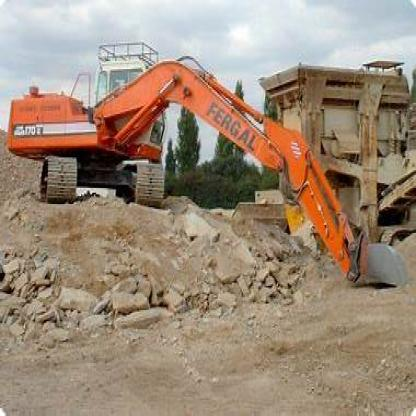excavator: (6, 24, 410, 302)
